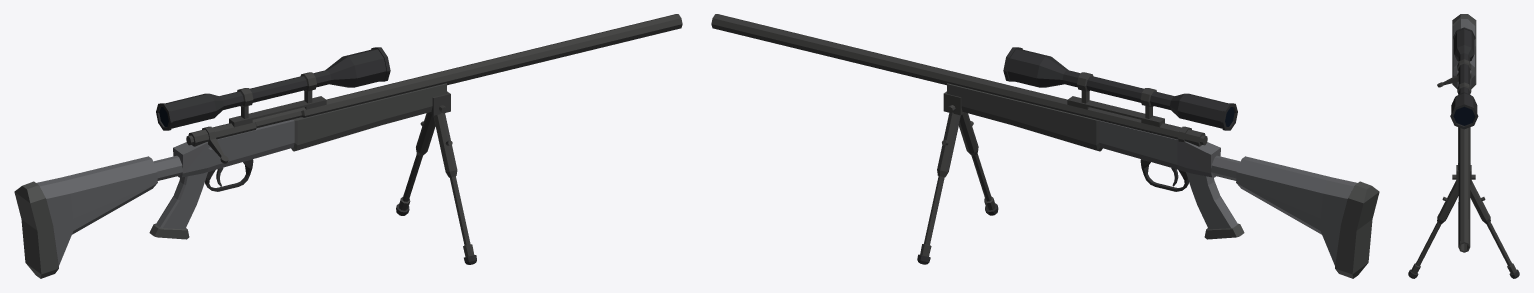
Rendered from sniperrifle_5.glb.
3 renders of one model, left to right at view 1: azimuth 30°, elevation 25°; view 2: azimuth 150°, elevation 25°; view 3: azimuth 270°, elevation 25°, orthographic. The views are drawn at different scales.
Visible parts, largest first — view 1: SniperRifle_5; view 2: SniperRifle_5; view 3: SniperRifle_5.
Boxes of the visible parts, x1,y1,x2,y2 form: SniperRifle_5: (14, 14, 682, 278); SniperRifle_5: (711, 14, 1379, 278); SniperRifle_5: (1408, 14, 1519, 278).
Bounding box in the file's own units: 6.34 × 1.9 × 1.25.
